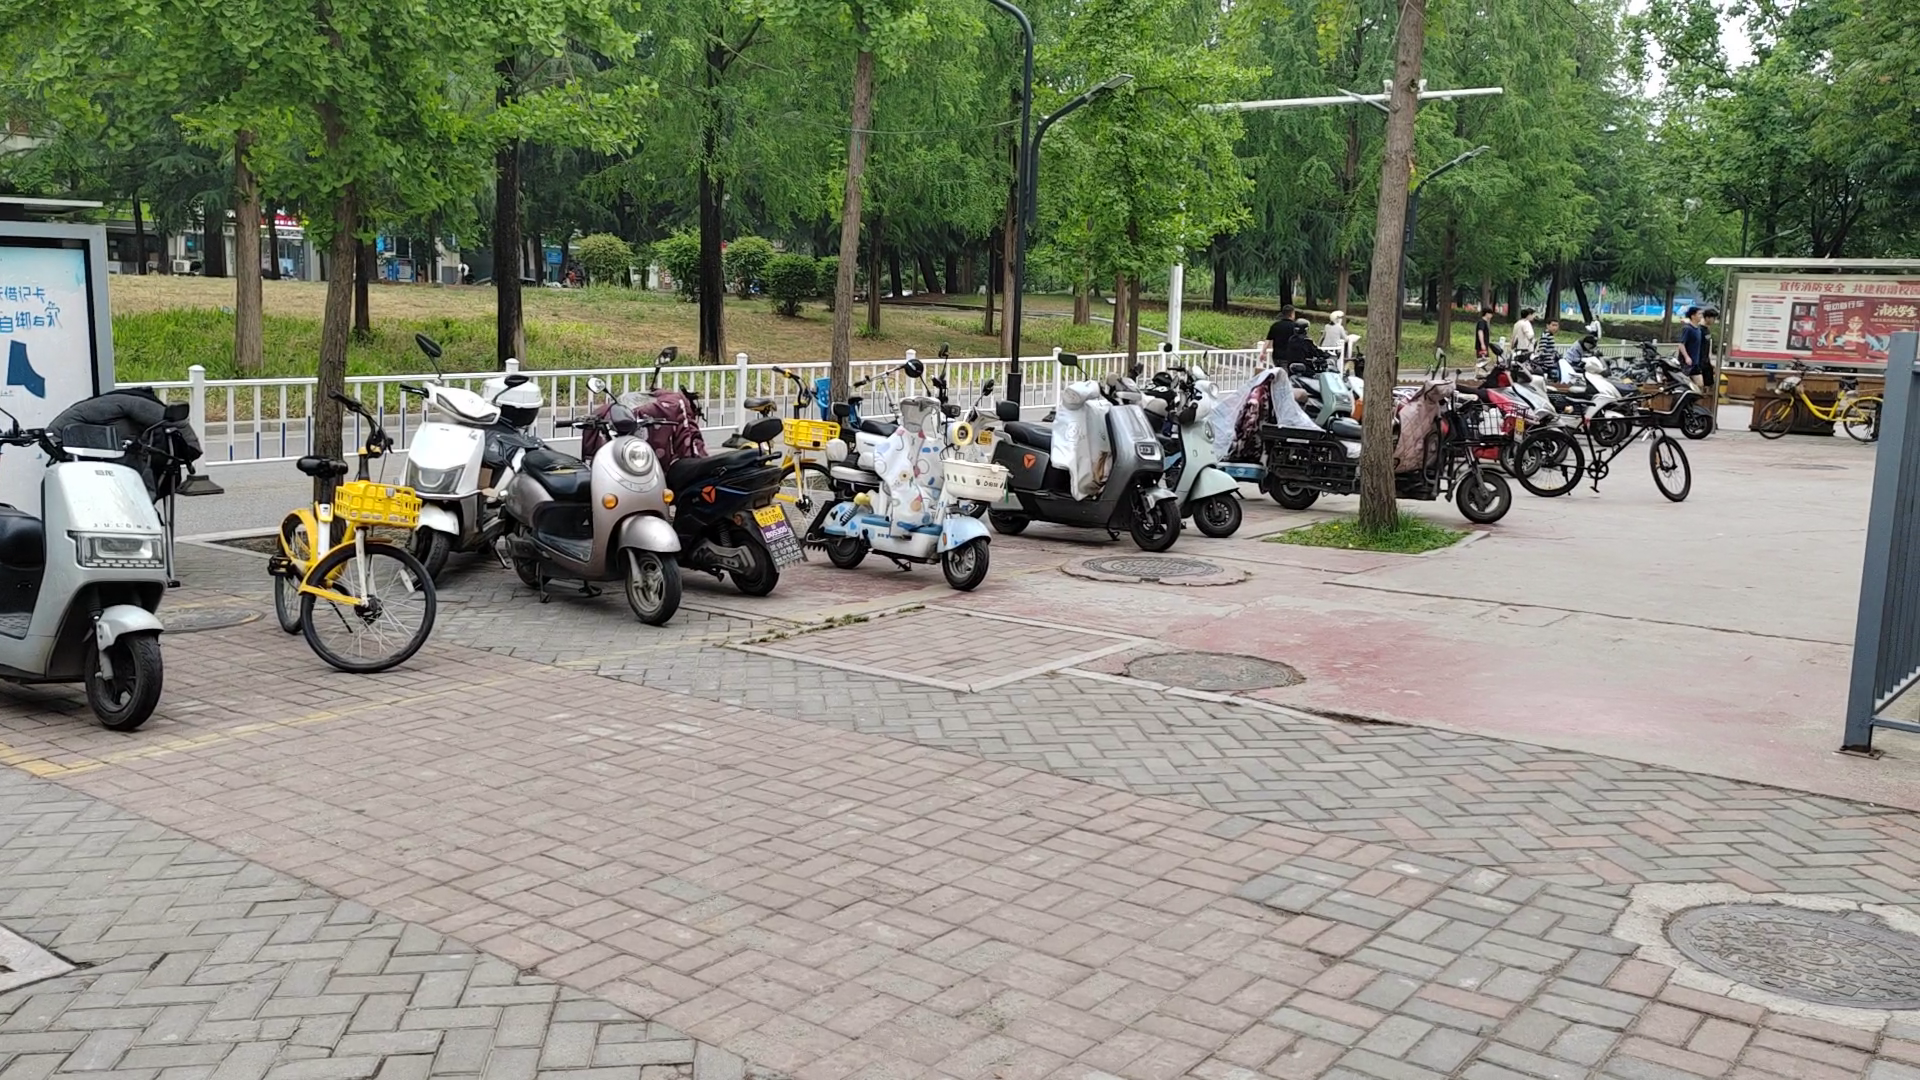others: (1261, 347, 1509, 546), (513, 375, 671, 642), (996, 353, 1183, 578), (839, 363, 1002, 597), (401, 349, 560, 585), (1127, 324, 1257, 550), (1520, 368, 1704, 500), (1760, 330, 1883, 458)
shared_bike_meituan: (261, 390, 444, 687), (711, 363, 855, 553)
